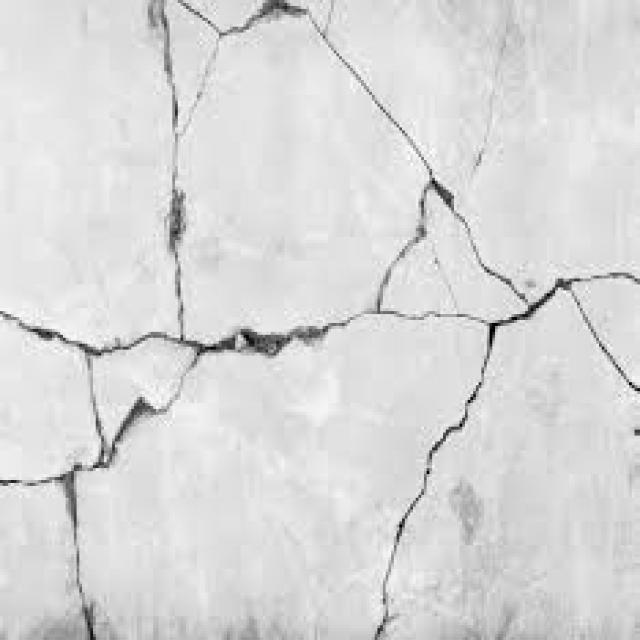Crack: (0, 0, 635, 634)
